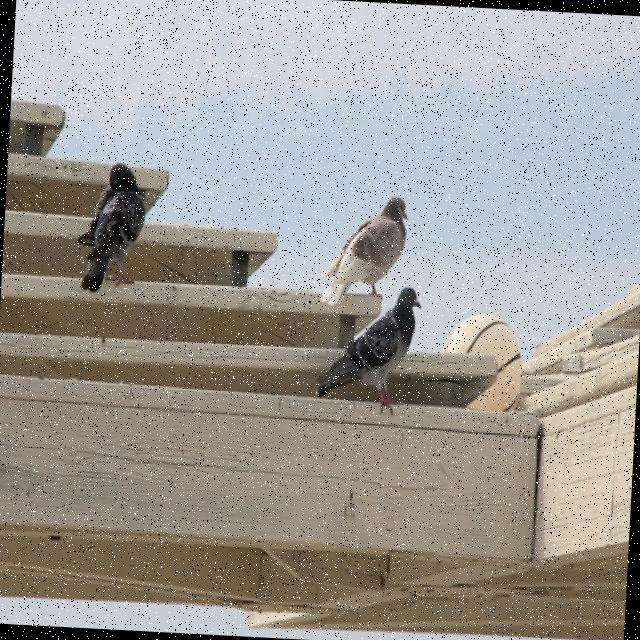bird: (314, 282, 423, 419), (319, 192, 410, 312), (78, 160, 148, 296)
